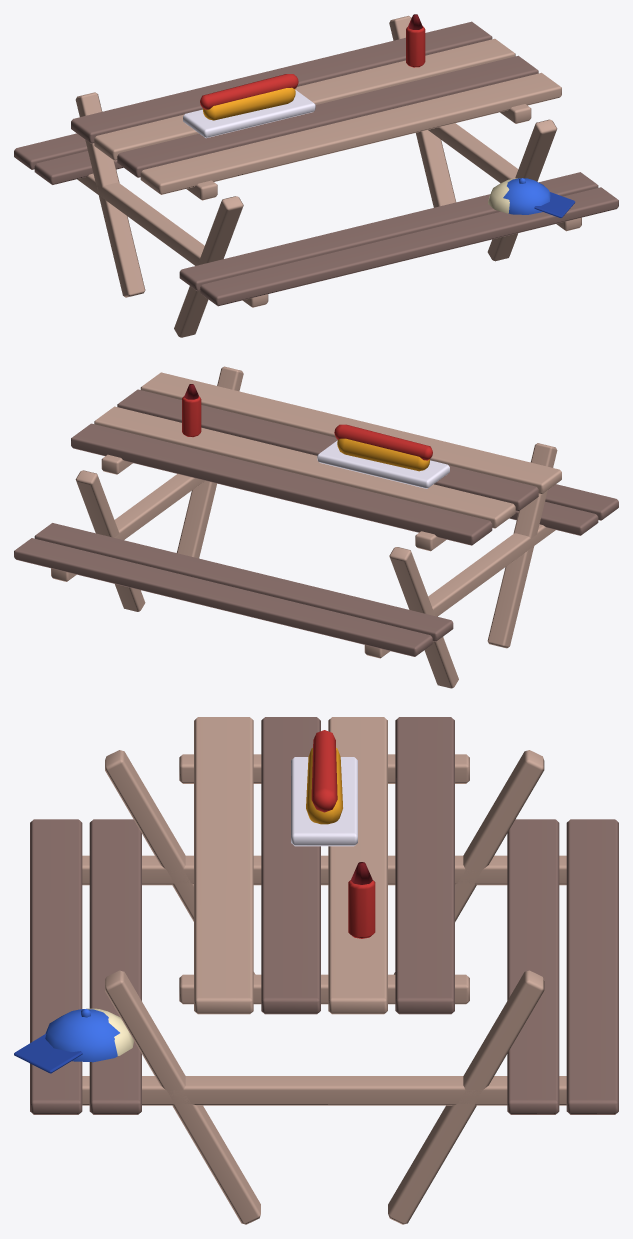
The model's file is picnic_table.glb.
3 views of the same model, one above another, from view 1: azimuth 30°, elevation 25°; view 2: azimuth 150°, elevation 25°; view 3: azimuth 270°, elevation 25° (orthographic). The views are drawn at different scales.
Visible parts, largest first — view 1: Table; view 2: Table; view 3: Table.
Part boxes in pixels (left/top/right/bottom): Table: left=14, top=14, right=618, bottom=337; Table: left=14, top=366, right=618, bottom=688; Table: left=14, top=717, right=618, bottom=1224.
Size of the model in its own units: 1.8 by 0.9626 by 1.62.
